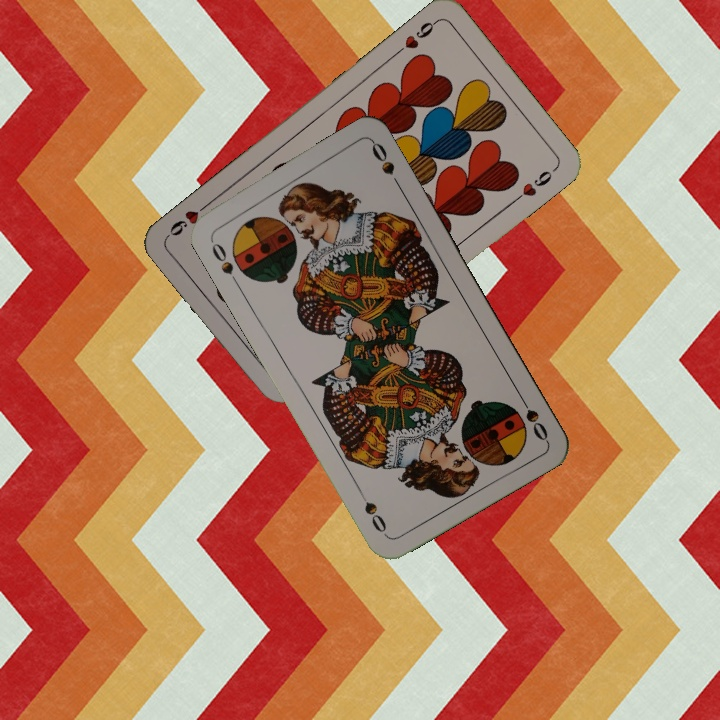H9: (391, 16, 441, 58)
SO: (514, 389, 551, 444), (205, 233, 236, 278)
